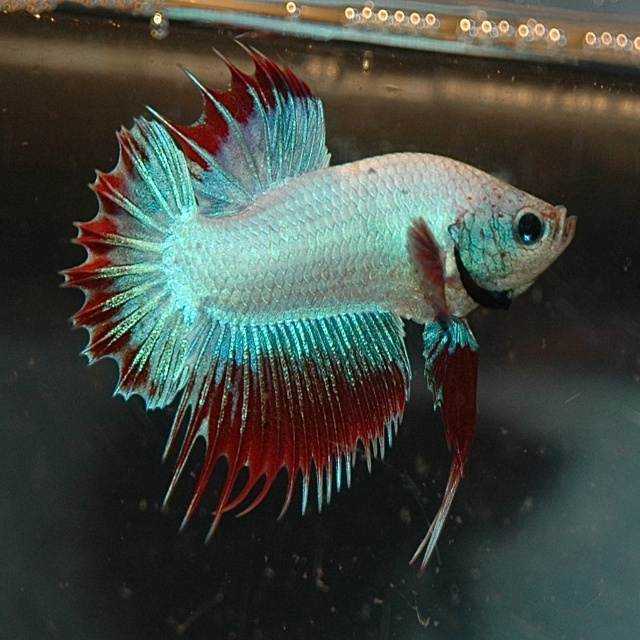Fish: (66, 39, 579, 575)
